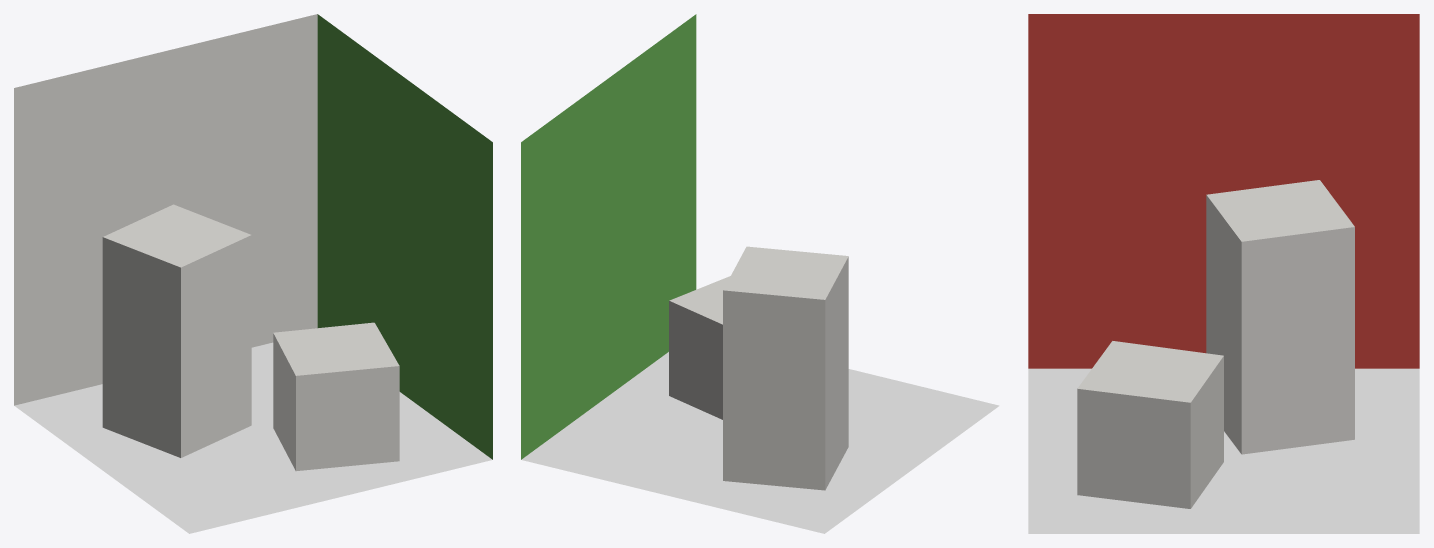
Rendered from cornell.glb.
The picture shows the model from 3 angles, left to right: view 1: azimuth 30°, elevation 25°; view 2: azimuth 150°, elevation 25°; view 3: azimuth 270°, elevation 25°; orthographic projection. The views are drawn at different scales.
Visible parts, largest first — view 1: cornell; view 2: cornell; view 3: cornell.
Boxes of the visible parts, x1=… form: cornell: x1=14, y1=14, x2=492, y2=533; cornell: x1=521, y1=14, x2=999, y2=533; cornell: x1=1028, y1=14, x2=1419, y2=533.
Bounding box in the file's own units: 2 × 2.02 × 2.
